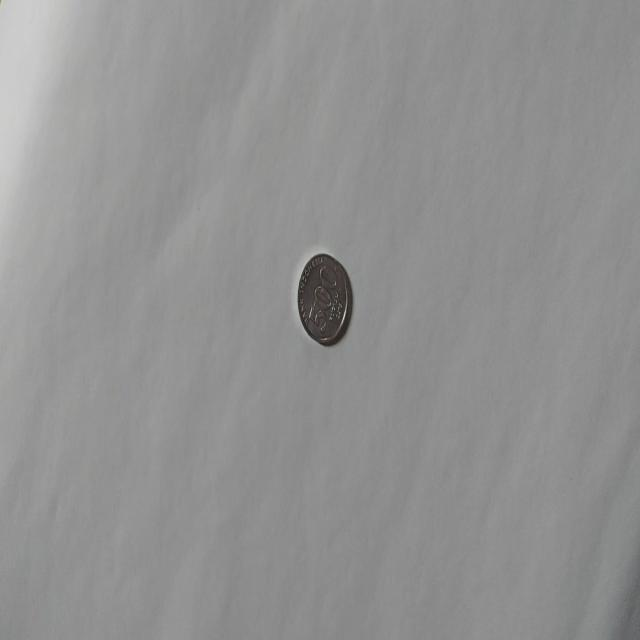lima ratus rupiah: (296, 250, 349, 346)
